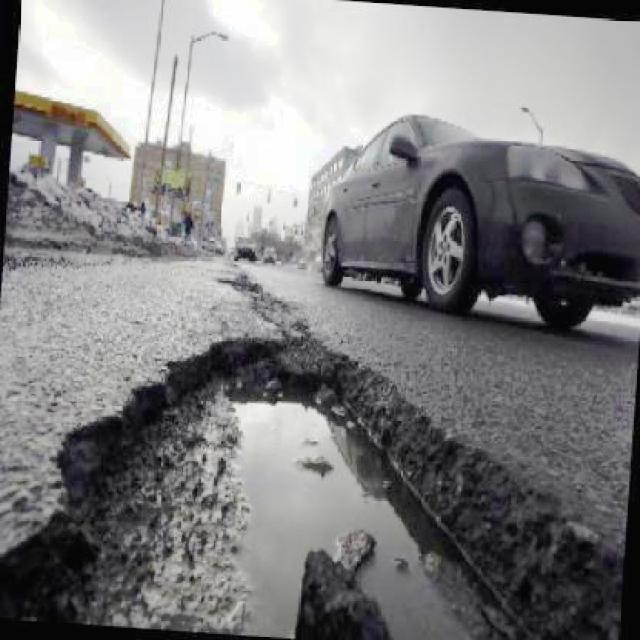pothole: (0, 329, 640, 640)
